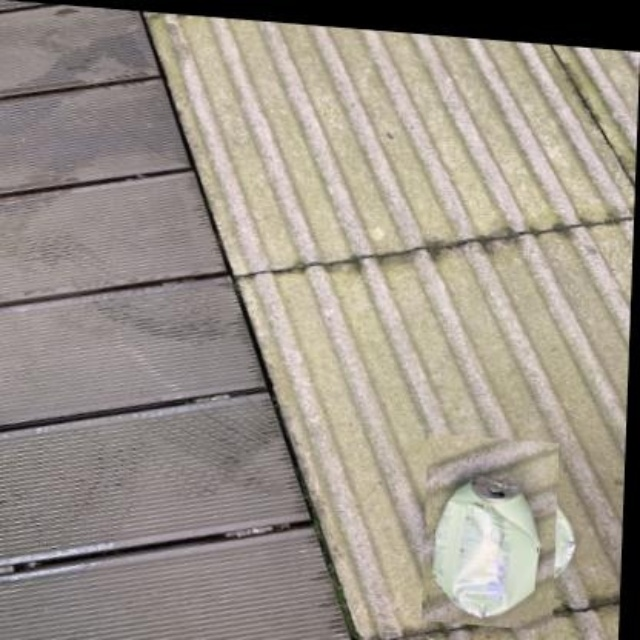trash: (434, 482, 538, 615)
